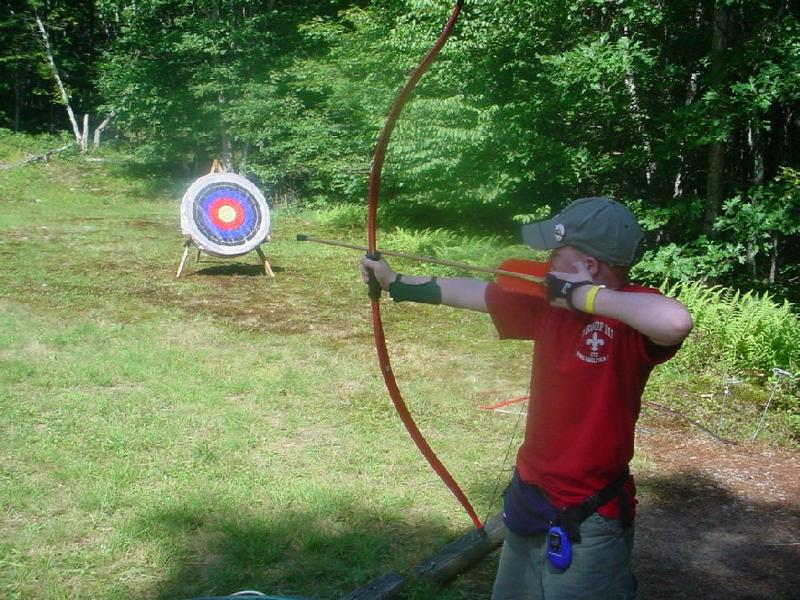person: (362, 198, 690, 600)
